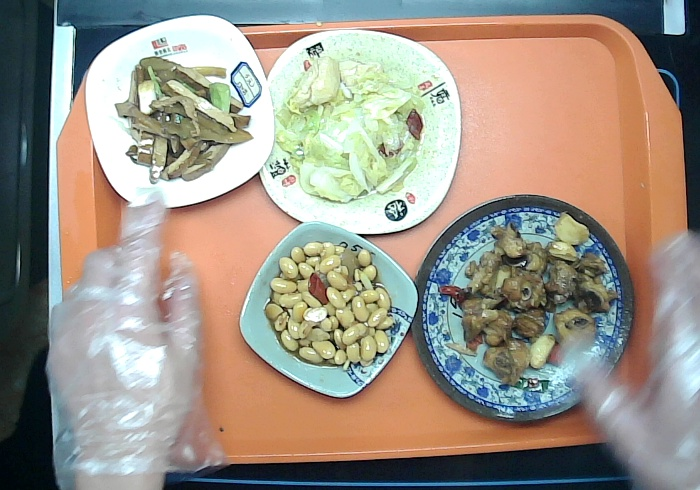NLDX-Bai_Se_Xiao_Fang_Die: (85, 16, 275, 208)
NLDX-Fu_Zi_Fang_Die: (257, 27, 462, 236)
NLDX-Qing_Hua_Xiao_Fang_Die: (234, 221, 420, 396)
NLDX-Qing_Hua_Yuan_Die: (416, 193, 636, 426)
